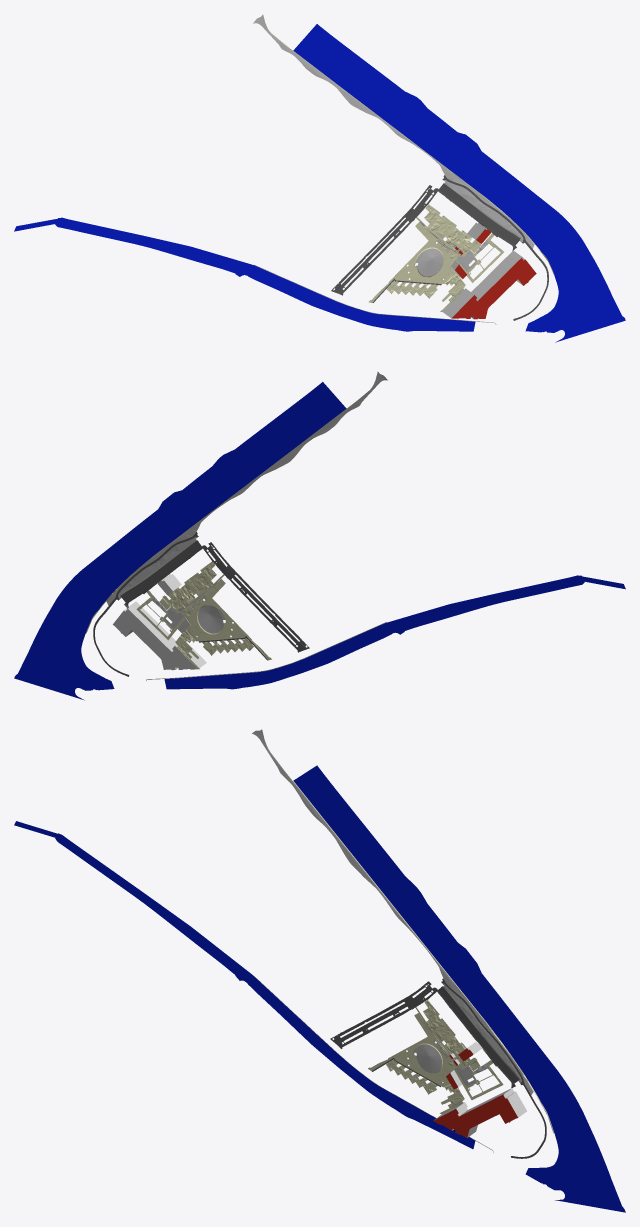
File: extent_red.obj
3 renders of one model, top to bottom at view 1: azimuth 30°, elevation 25°; view 2: azimuth 150°, elevation 25°; view 3: azimuth 330°, elevation 25°, orthographic.
Visible parts, largest first — view 1: b69a8d7bc-2d38-11e6-9a38-393caa90be70, bedab6302-00c8-11e6-b420-2bdcc4ab5d7f, b1105d28c-00ba-11e6-b420-2bdcc4ab5d7f, b2c160b4d-2d29-11e6-9a38-393caa90be70, b492abedc-00b4-11e6-b420-2bdcc4ab5d7f, b221e7287-00b5-11e6-b420-2bdcc4ab5d7f, b46c36c2c-2d29-11e6-9a38-393caa90be70, b9f6fcec4-00c9-11e6-b420-2bdcc4ab5d7f, b8e43e94c-00b3-11e6-b420-2bdcc4ab5d7f, baf053805-00c9-11e6-b420-2bdcc4ab5d7f, bfcebaa0a-2d38-11e6-9a38-393caa90be70, b221dafb6-00b5-11e6-b420-2bdcc4ab5d7f (+1 smaller); view 2: b69a8d7bc-2d38-11e6-9a38-393caa90be70, bedab6302-00c8-11e6-b420-2bdcc4ab5d7f, b1105d28c-00ba-11e6-b420-2bdcc4ab5d7f, b2c160b4d-2d29-11e6-9a38-393caa90be70, b492abedc-00b4-11e6-b420-2bdcc4ab5d7f, b221e7287-00b5-11e6-b420-2bdcc4ab5d7f, b46c36c2c-2d29-11e6-9a38-393caa90be70, b9f6fcec4-00c9-11e6-b420-2bdcc4ab5d7f, b8e43e94c-00b3-11e6-b420-2bdcc4ab5d7f, baf053805-00c9-11e6-b420-2bdcc4ab5d7f, bfcebaa0a-2d38-11e6-9a38-393caa90be70, b221dafb6-00b5-11e6-b420-2bdcc4ab5d7f (+2 smaller); view 3: b69a8d7bc-2d38-11e6-9a38-393caa90be70, bedab6302-00c8-11e6-b420-2bdcc4ab5d7f, b1105d28c-00ba-11e6-b420-2bdcc4ab5d7f, b2c160b4d-2d29-11e6-9a38-393caa90be70, b492abedc-00b4-11e6-b420-2bdcc4ab5d7f, b221e7287-00b5-11e6-b420-2bdcc4ab5d7f, b82575848-2d29-11e6-9a38-393caa90be70.
Boxes of the visible parts, x1=… form: b69a8d7bc-2d38-11e6-9a38-393caa90be70: x1=293, y1=24, x2=625, y2=342; bedab6302-00c8-11e6-b420-2bdcc4ab5d7f: x1=14, y1=217, x2=475, y2=331; b1105d28c-00ba-11e6-b420-2bdcc4ab5d7f: x1=442, y1=250, x2=536, y2=319; b2c160b4d-2d29-11e6-9a38-393caa90be70: x1=253, y1=15, x2=534, y2=248; b492abedc-00b4-11e6-b420-2bdcc4ab5d7f: x1=368, y1=222, x2=458, y2=302; b221e7287-00b5-11e6-b420-2bdcc4ab5d7f: x1=416, y1=204, x2=481, y2=256; b46c36c2c-2d29-11e6-9a38-393caa90be70: x1=444, y1=180, x2=523, y2=242; b9f6fcec4-00c9-11e6-b420-2bdcc4ab5d7f: x1=439, y1=185, x2=519, y2=245; b8e43e94c-00b3-11e6-b420-2bdcc4ab5d7f: x1=415, y1=248, x2=442, y2=276; baf053805-00c9-11e6-b420-2bdcc4ab5d7f: x1=334, y1=189, x2=432, y2=293; bfcebaa0a-2d38-11e6-9a38-393caa90be70: x1=442, y1=175, x2=548, y2=320; b221dafb6-00b5-11e6-b420-2bdcc4ab5d7f: x1=386, y1=281, x2=438, y2=298; b69a8d7bc-2d38-11e6-9a38-393caa90be70: x1=14, y1=382, x2=346, y2=700; bedab6302-00c8-11e6-b420-2bdcc4ab5d7f: x1=164, y1=575, x2=625, y2=689; b1105d28c-00ba-11e6-b420-2bdcc4ab5d7f: x1=113, y1=601, x2=206, y2=670; b2c160b4d-2d29-11e6-9a38-393caa90be70: x1=106, y1=372, x2=387, y2=605; b492abedc-00b4-11e6-b420-2bdcc4ab5d7f: x1=182, y1=579, x2=271, y2=660; b221e7287-00b5-11e6-b420-2bdcc4ab5d7f: x1=159, y1=561, x2=223, y2=613; b46c36c2c-2d29-11e6-9a38-393caa90be70: x1=118, y1=537, x2=197, y2=599; b9f6fcec4-00c9-11e6-b420-2bdcc4ab5d7f: x1=122, y1=542, x2=201, y2=602; b8e43e94c-00b3-11e6-b420-2bdcc4ab5d7f: x1=198, y1=605, x2=225, y2=633; baf053805-00c9-11e6-b420-2bdcc4ab5d7f: x1=208, y1=546, x2=306, y2=651; bfcebaa0a-2d38-11e6-9a38-393caa90be70: x1=93, y1=532, x2=198, y2=676; b221dafb6-00b5-11e6-b420-2bdcc4ab5d7f: x1=202, y1=638, x2=253, y2=655; b69a8d7bc-2d38-11e6-9a38-393caa90be70: x1=293, y1=765, x2=625, y2=1212; bedab6302-00c8-11e6-b420-2bdcc4ab5d7f: x1=14, y1=821, x2=475, y2=1148; b1105d28c-00ba-11e6-b420-2bdcc4ab5d7f: x1=433, y1=1088, x2=526, y2=1137; b2c160b4d-2d29-11e6-9a38-393caa90be70: x1=252, y1=729, x2=533, y2=1095; b492abedc-00b4-11e6-b420-2bdcc4ab5d7f: x1=368, y1=1013, x2=457, y2=1087; b221e7287-00b5-11e6-b420-2bdcc4ab5d7f: x1=415, y1=1000, x2=480, y2=1071; b82575848-2d29-11e6-9a38-393caa90be70: x1=262, y1=729, x2=554, y2=1133.
Bounding box in the file's own units: 524 × 328 × 13.72.
